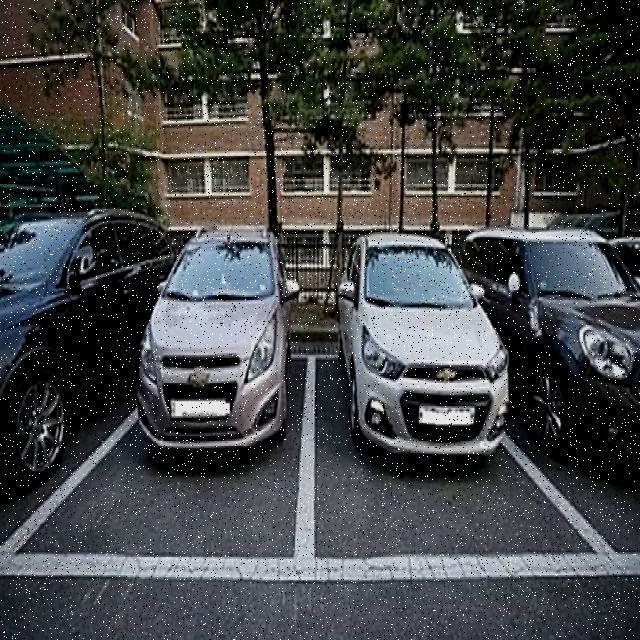Car: (316, 202, 508, 479), (140, 216, 286, 467), (0, 194, 115, 486), (536, 213, 640, 470)
